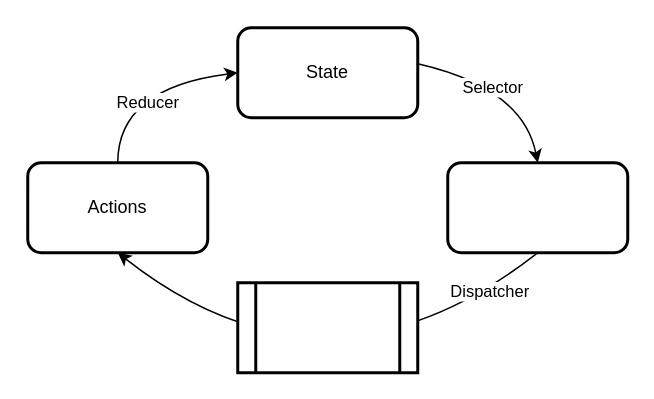
Image size: 654x399. Some labels were removed from this diagram. Here are the shapes that lost their labels. From the top down, the centre of each, then its label:
[537,207]: User Interface
[327,327]: Middleware
